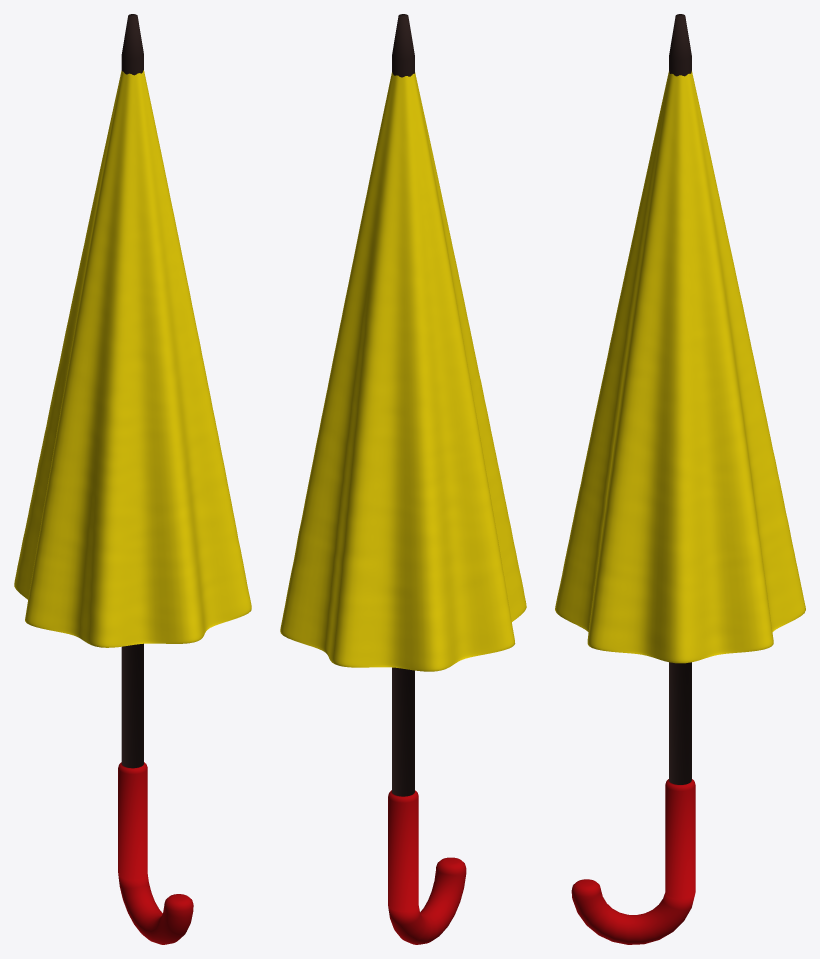
File: sombrilla.fbx
The picture shows the model from 3 angles, left to right: view 1: azimuth 30°, elevation 25°; view 2: azimuth 150°, elevation 25°; view 3: azimuth 270°, elevation 25°; orthographic projection. The views are drawn at different scales.
Parts seen in each view (by area): view 1: Vert, Cylinder; view 2: Vert, Cylinder; view 3: Vert, Cylinder.
Boxes of the visible parts, x1,y1,x2,y2 form: Vert: (14,70,251,647); Cylinder: (118,14,193,944); Vert: (280,72,526,671); Cylinder: (388,14,466,944); Vert: (555,71,805,663); Cylinder: (571,14,695,944).
Bounding box in the file's own units: 28.01 × 114 × 28.05.
